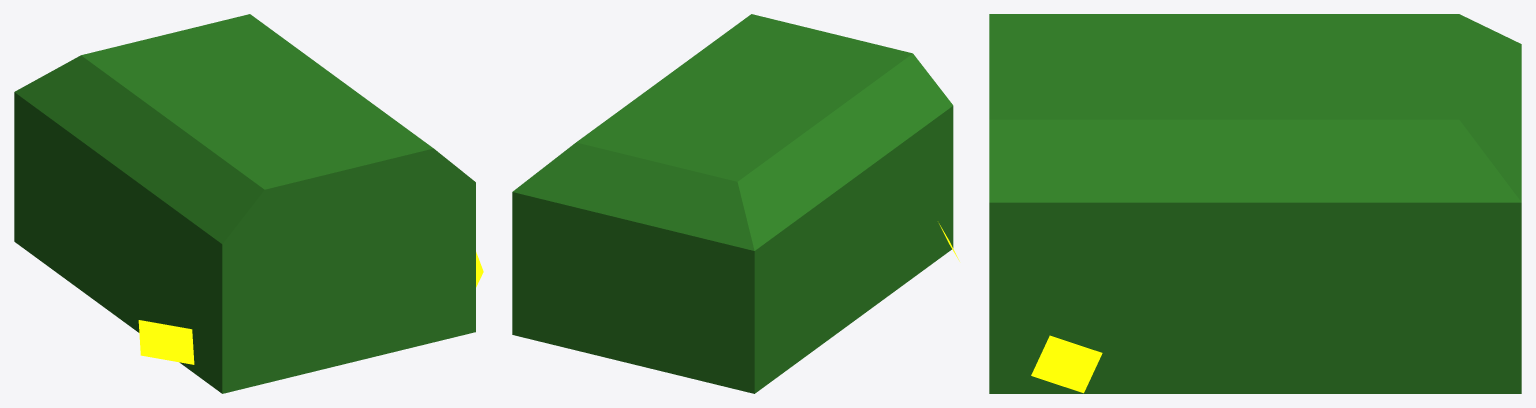
The model's file is Gattling_Housing.glb.
The picture shows the model from 3 angles, left to right: view 1: azimuth 30°, elevation 25°; view 2: azimuth 150°, elevation 25°; view 3: azimuth 270°, elevation 25°; orthographic projection. The views are drawn at different scales.
Visible parts, largest first — view 1: Gattling Housing; view 2: Gattling Housing; view 3: Gattling Housing.
Boxes of the visible parts, <box> form: Gattling Housing: <box>14,14,483,393</box>; Gattling Housing: <box>512,14,959,393</box>; Gattling Housing: <box>989,14,1521,393</box>.
Size of the model in its own units: 0.4377 by 0.2365 by 0.4602.
